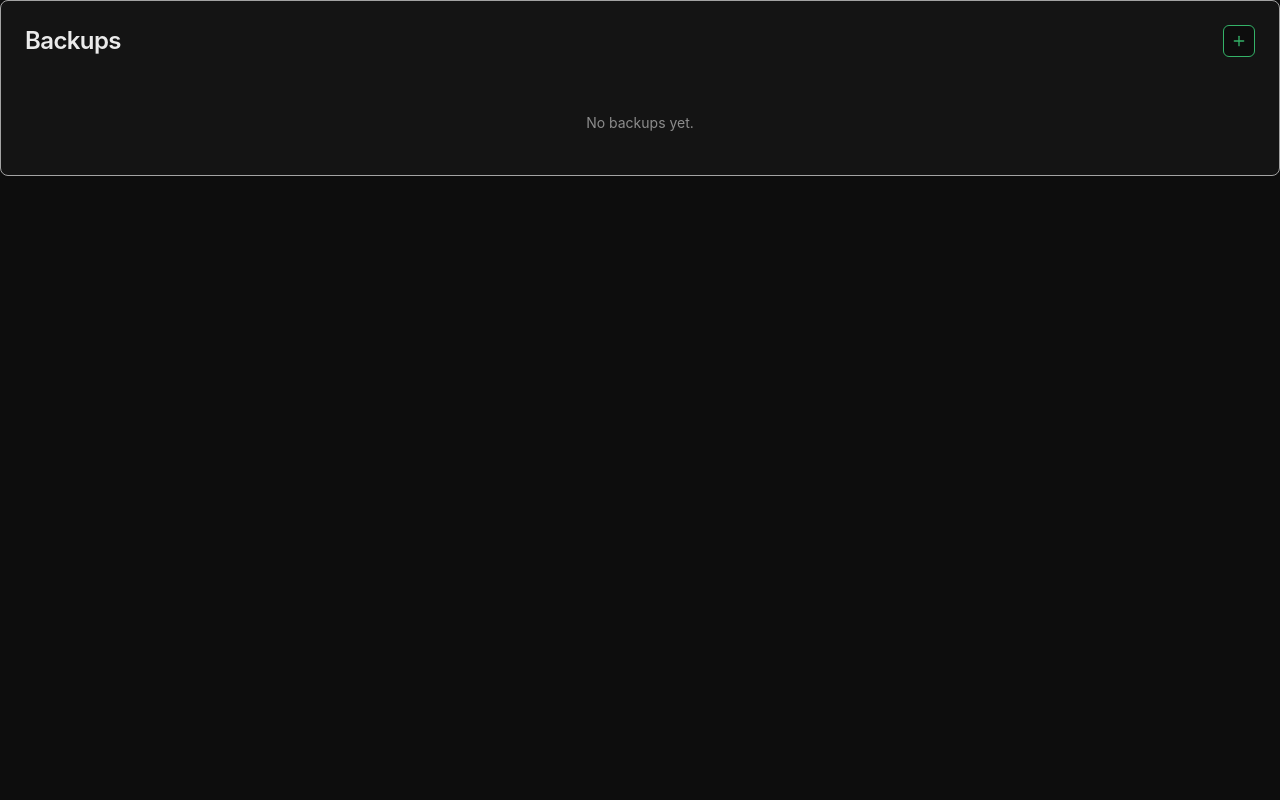
it: RestoreTab snapshot payload › includes averaged fields and income estimate fields when saving a backup
Later steps or results of the test are not shown.
Click the button named "Create backup" at (1239, 41), box [1223,25,1255,57]
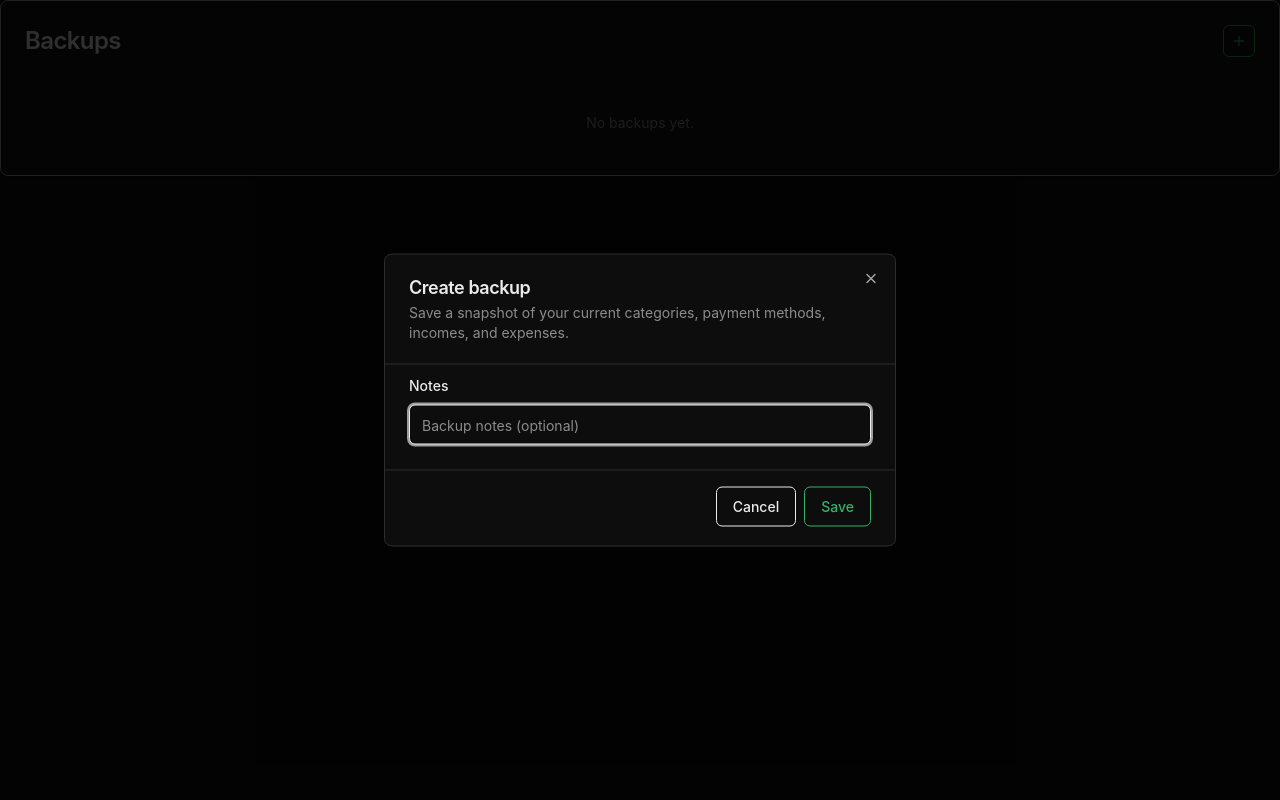
Expected: the button "Save" is shown, [804,486,871,526]
